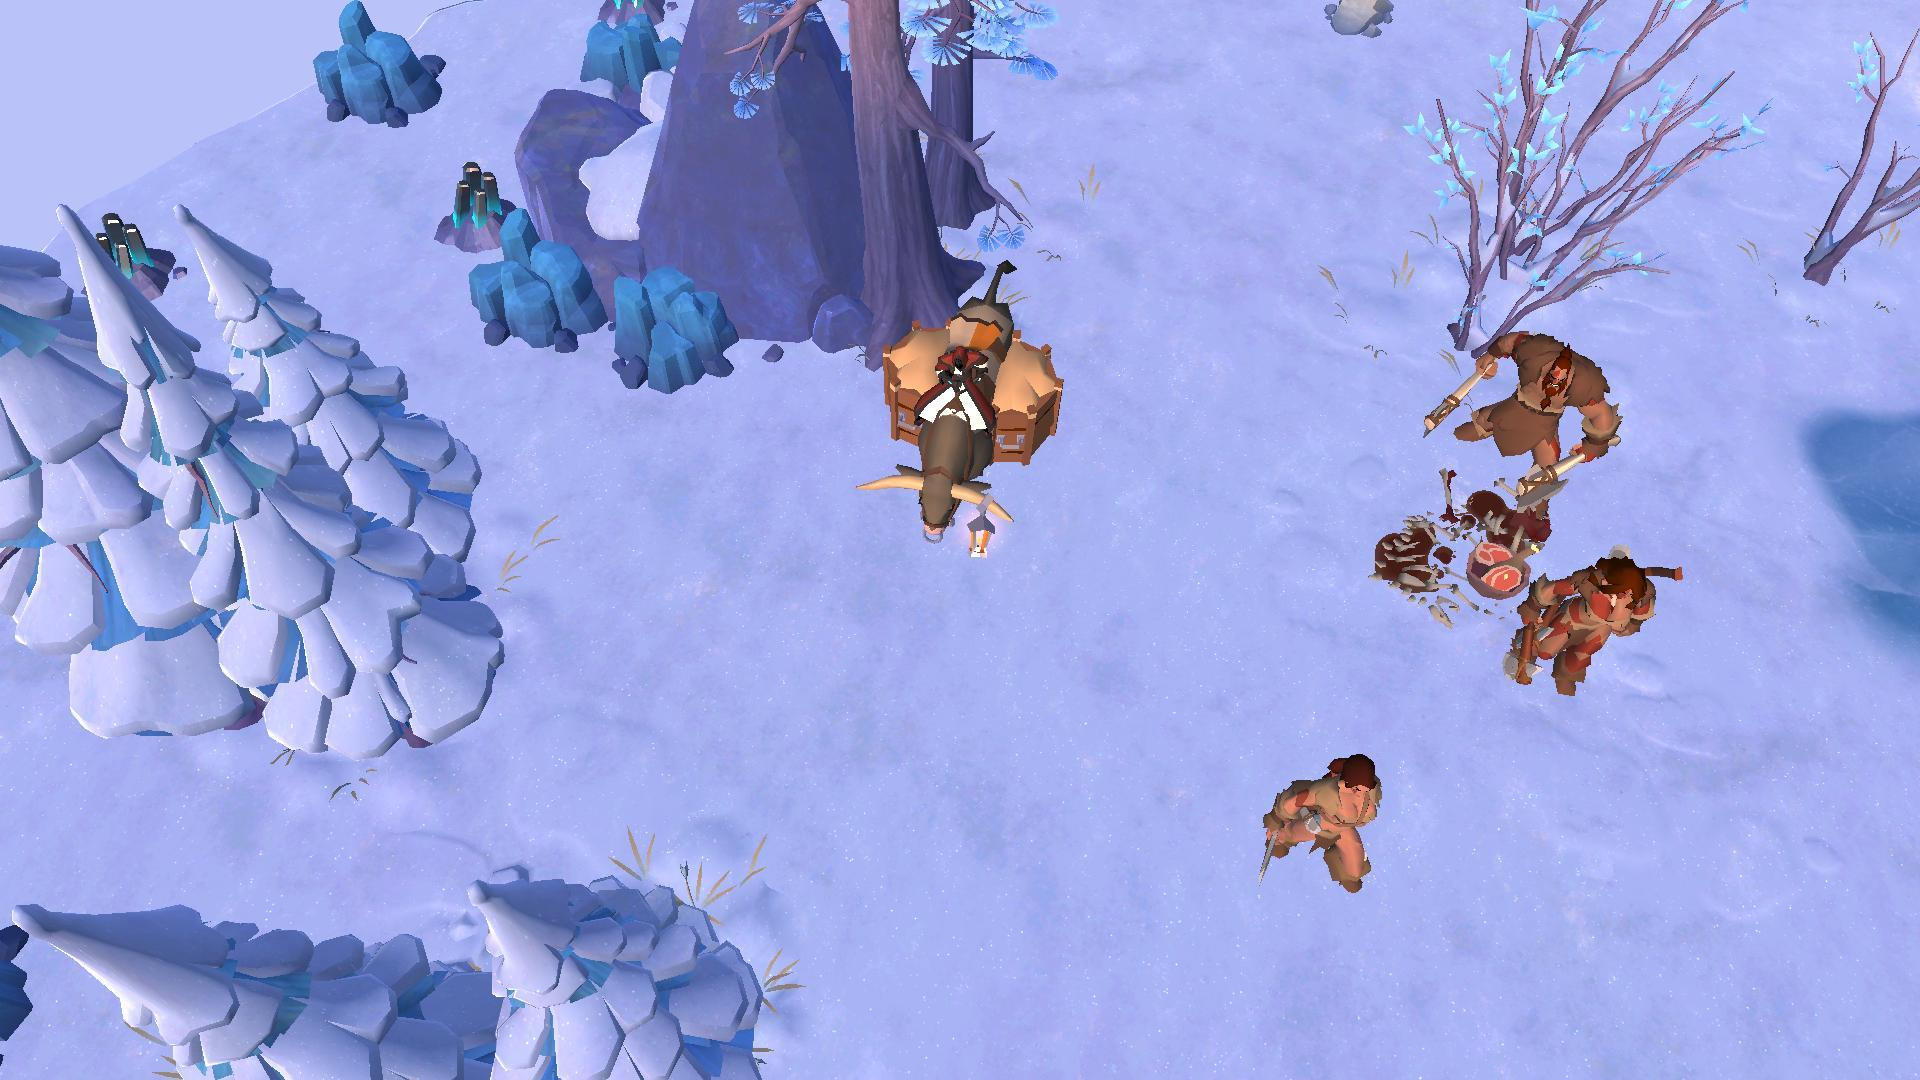enemy_factionKeeper: (1432, 318, 1611, 498), (1503, 551, 1676, 713), (1246, 742, 1391, 898)
ore_t4: (86, 204, 154, 278), (450, 150, 502, 223)
rock_t4: (463, 210, 604, 360), (310, 3, 447, 142), (605, 261, 738, 392), (566, 16, 694, 107)
